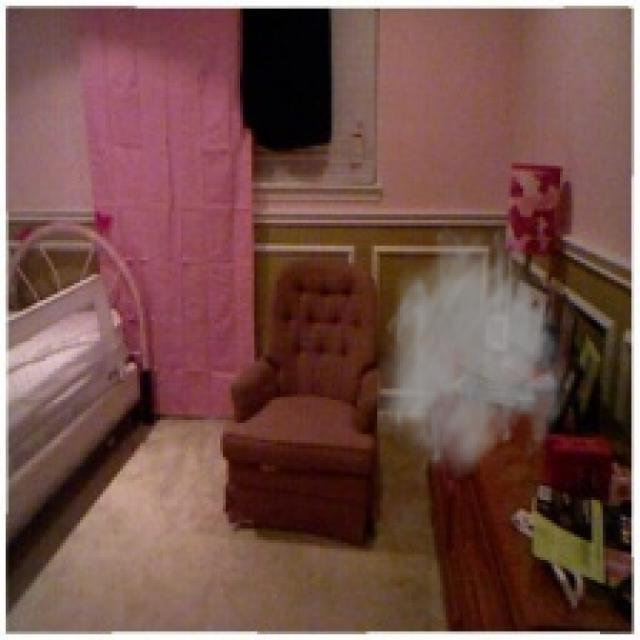Smoke: (377, 220, 577, 483)
